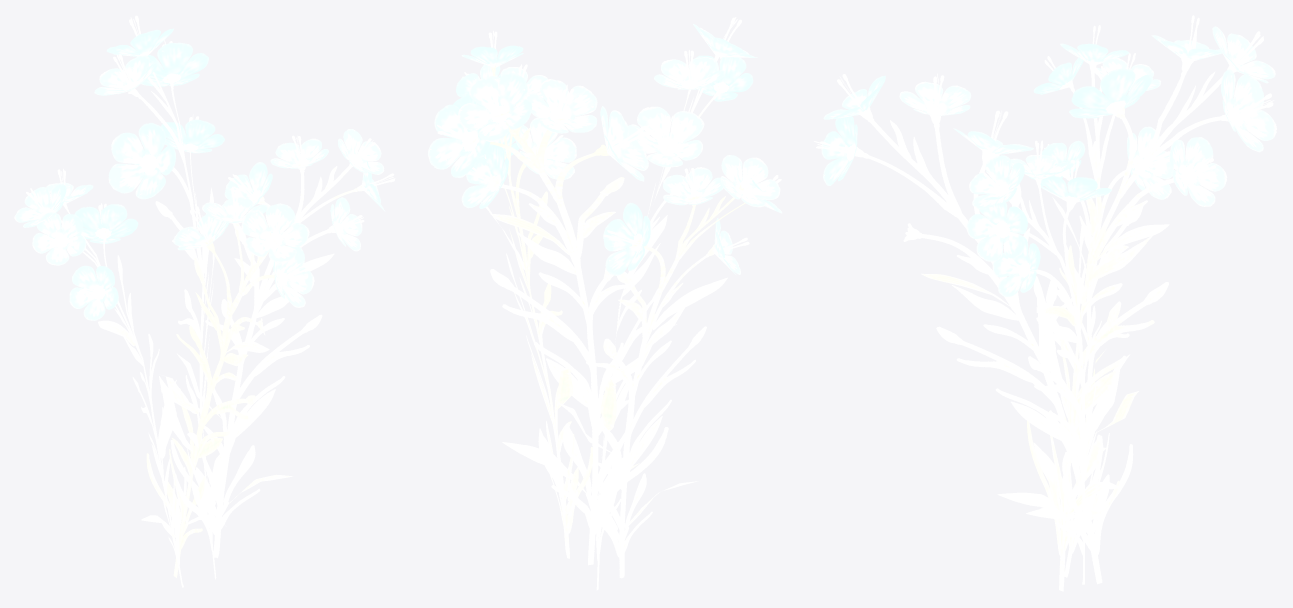
3 renders of one model, left to right at view 1: azimuth 30°, elevation 25°; view 2: azimuth 150°, elevation 25°; view 3: azimuth 270°, elevation 25°, orthographic. The views are drawn at different scales.
Parts seen in each view (by area): view 1: SM_Flax_03_Item_LOD0; view 2: SM_Flax_03_Item_LOD0; view 3: SM_Flax_03_Item_LOD0.
Part boxes in pixels (x1,y1,x2,y2): SM_Flax_03_Item_LOD0: (14, 15, 395, 587); SM_Flax_03_Item_LOD0: (428, 17, 782, 590); SM_Flax_03_Item_LOD0: (814, 15, 1276, 591).
Bounding box in the file's own units: 0.9755 × 1.41 × 1.05.
1 material, 1 textured.
